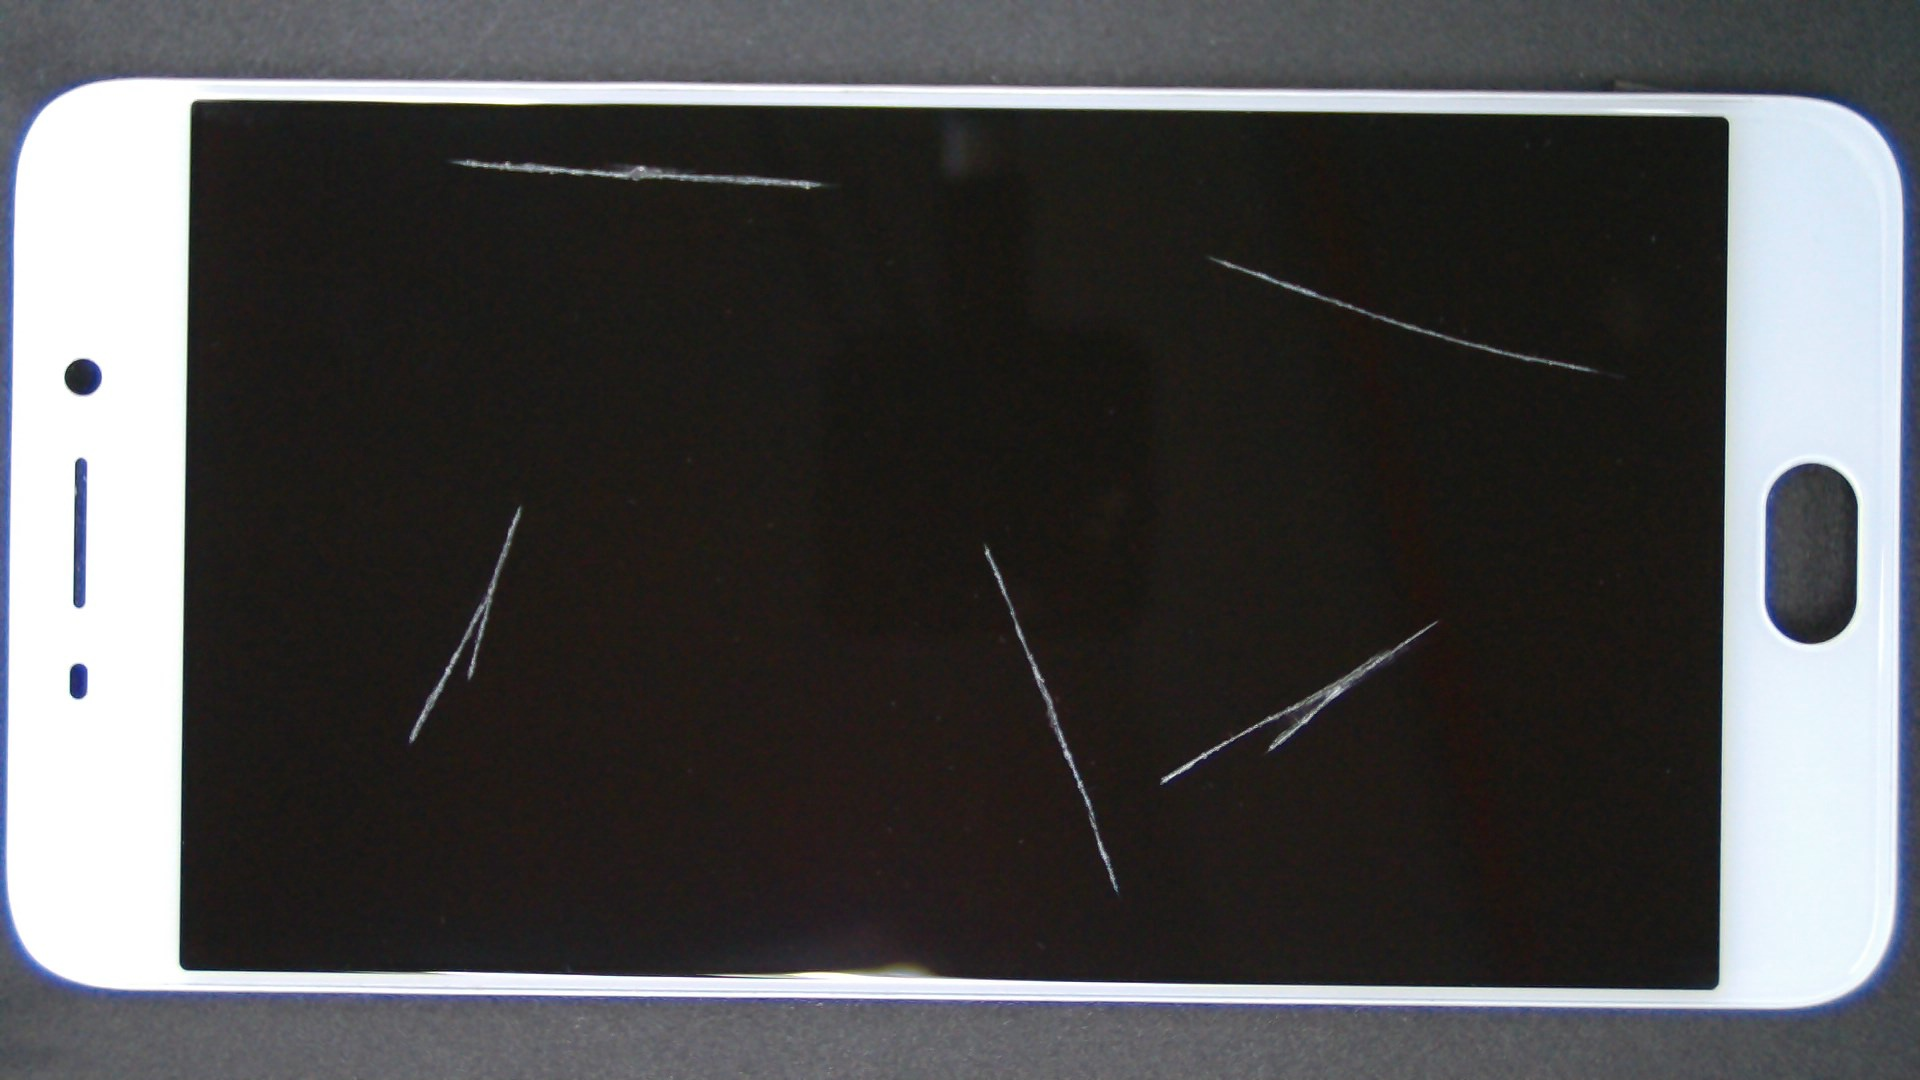oil: (717, 310, 1920, 931), (492, 272, 1476, 815), (604, 127, 1812, 384), (261, 251, 778, 757), (233, 78, 698, 236)
